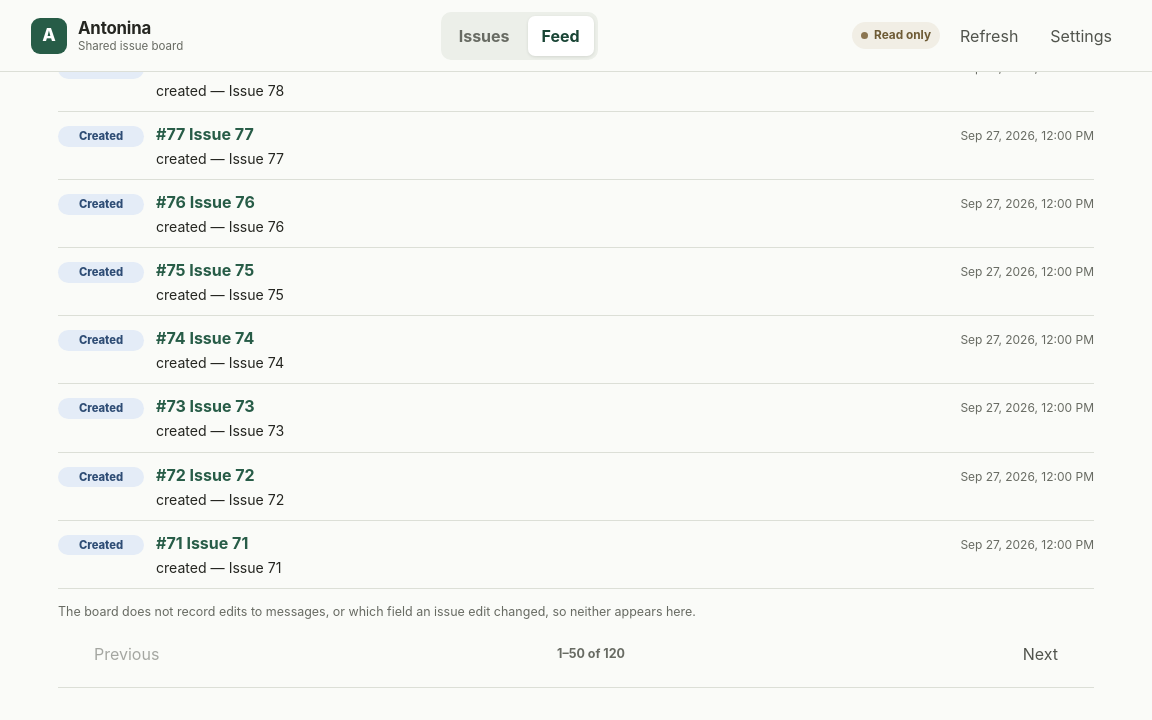
Test: the feed tab, mounted, paging by number › writes the page it moved to into the address, and reads exactly that page
The image size is (1152, 720).
(page scrolled)
Click the button "Next" at (1040, 654), box [1011,634,1070,676]
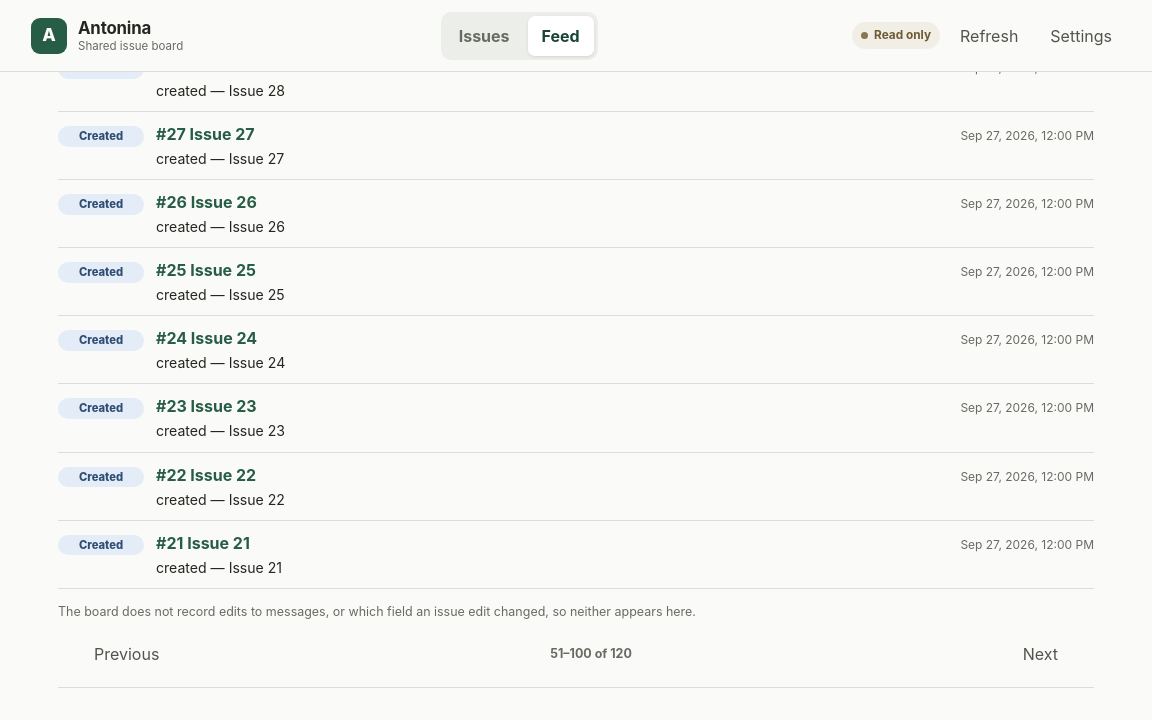
Expected: the message "51–100 of 120" is shown, [550,645,632,664]
